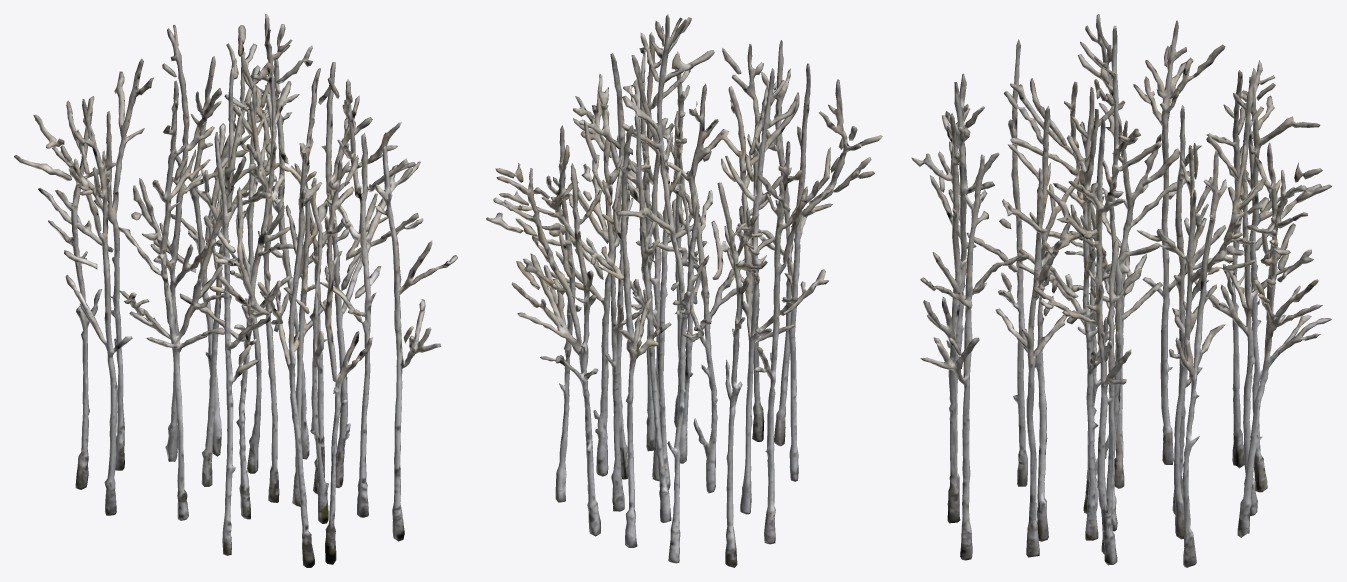
File: AI_PaperBirch03.fbx
The picture shows the model from 3 angles, left to right: view 1: azimuth 30°, elevation 25°; view 2: azimuth 150°, elevation 25°; view 3: azimuth 270°, elevation 25°; orthographic projection. The views are drawn at different scales.
Parts seen in each view (by area): view 1: Mesh1.0; view 2: Mesh1.0; view 3: Mesh1.0.
Part boxes in pixels (x1,y1,x2,y2): Mesh1.0: (14,14,457,567); Mesh1.0: (486,14,882,567); Mesh1.0: (911,14,1332,567).
Size of the model in its own units: 133 by 202 by 153.
Materials: 1 (1 with a texture image).
